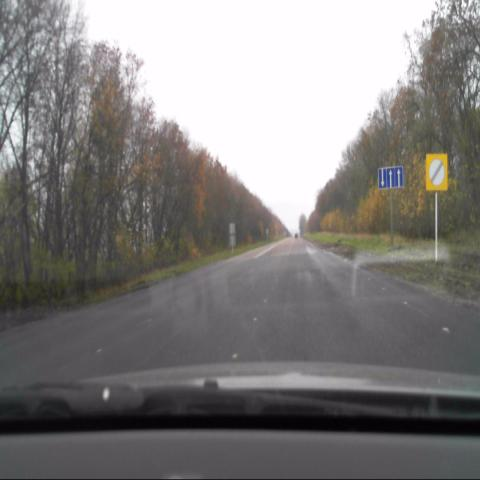3_31: (426, 155, 448, 191)
